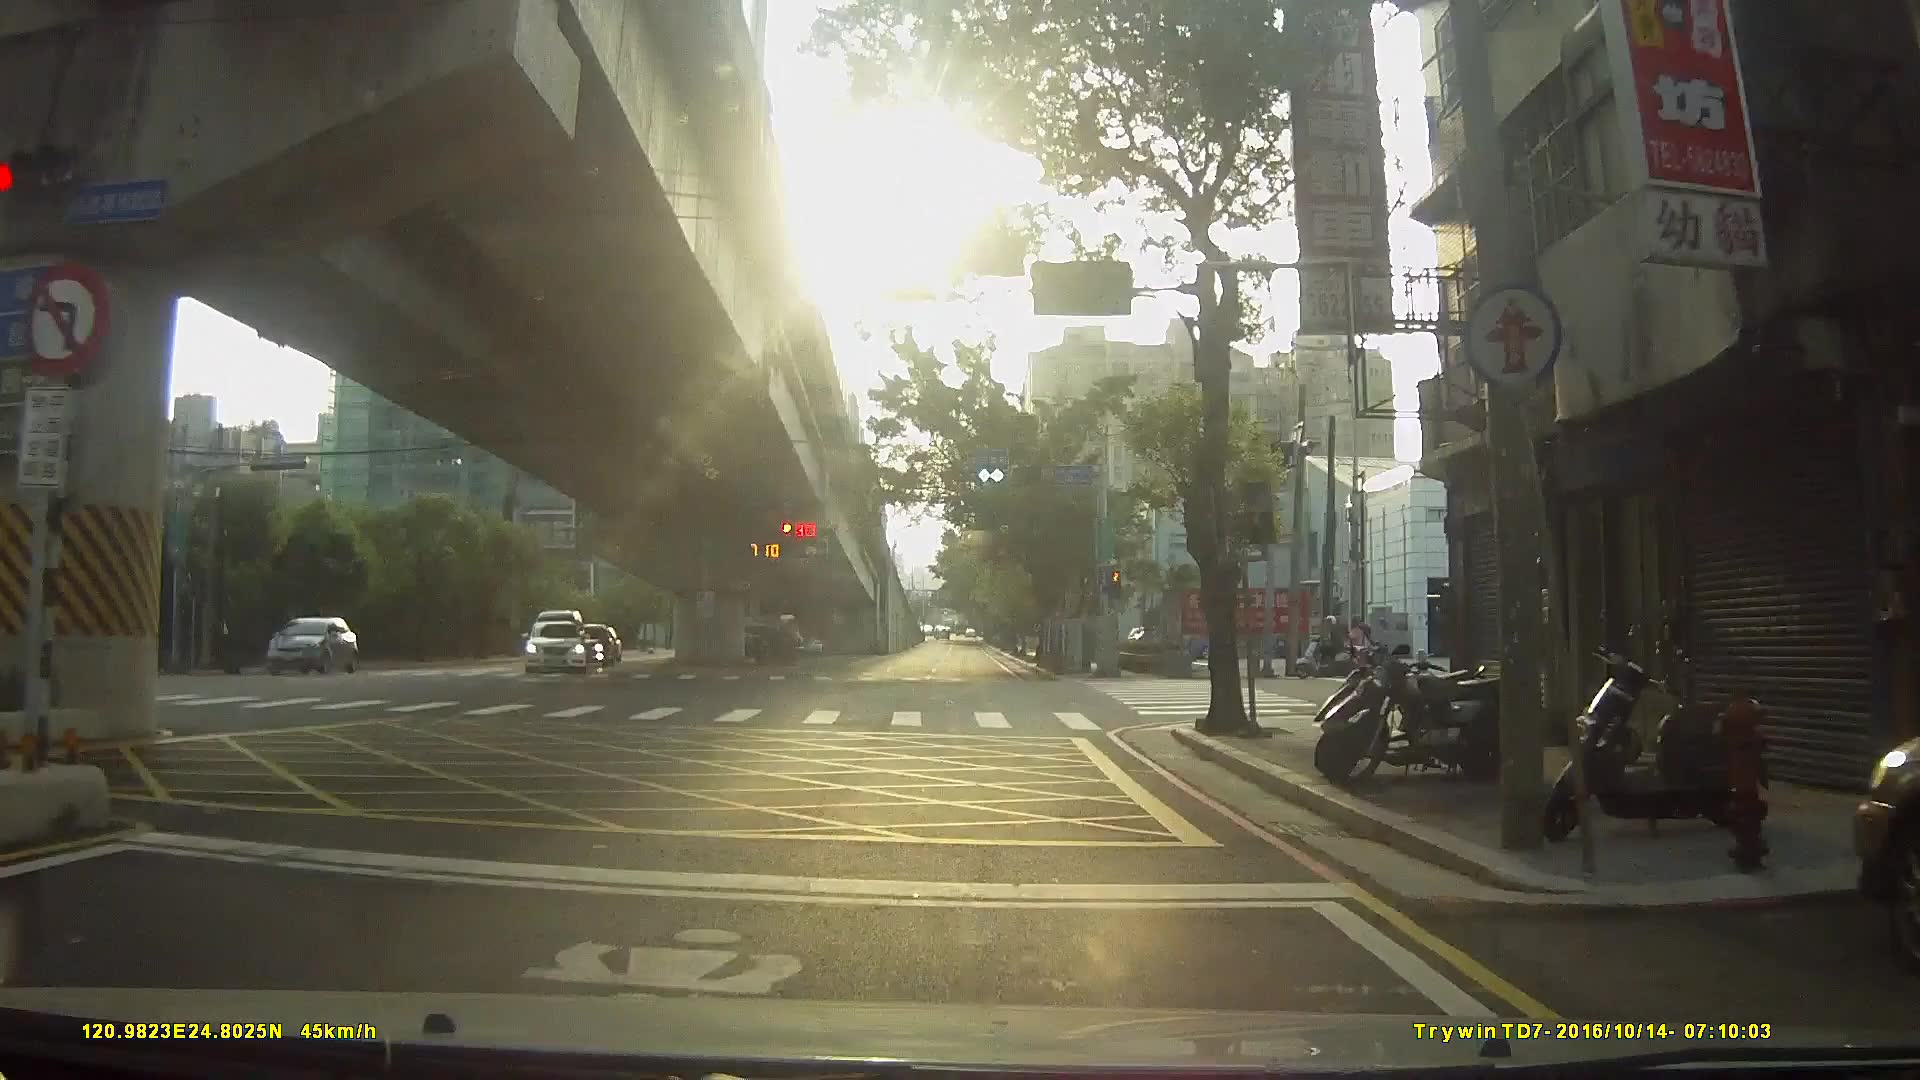rider: (1293, 613, 1360, 681)
vehicle: (1831, 718, 1920, 964), (253, 612, 350, 675), (516, 617, 585, 673), (719, 618, 799, 663), (562, 622, 613, 668)
